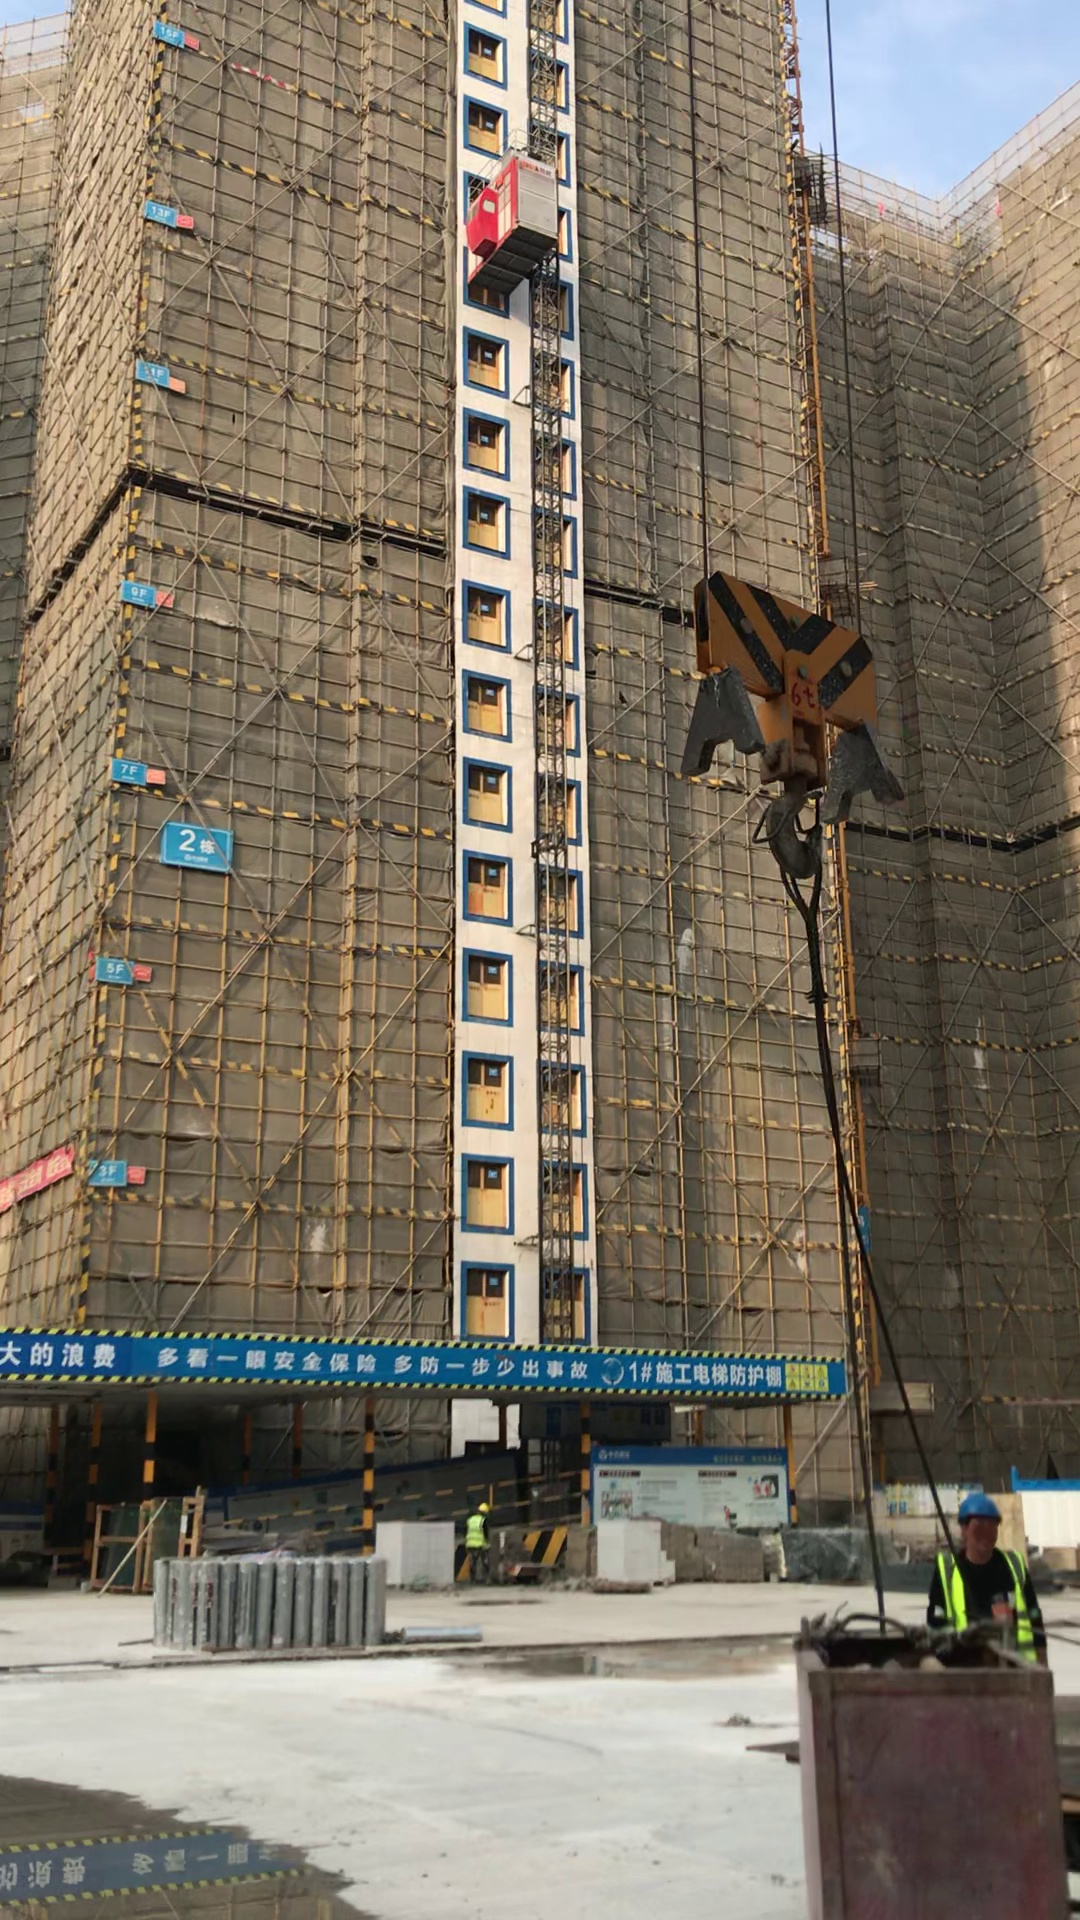brick: (373, 1519, 455, 1587), (597, 1518, 677, 1582)
helmet: (960, 1493, 1001, 1523), (477, 1502, 488, 1515)
hook: (686, 567, 905, 887)
person: (927, 1490, 1053, 1637), (465, 1502, 492, 1589)
slogan: (1, 1326, 845, 1394), (3, 1839, 286, 1893)
vest: (937, 1545, 1039, 1642), (466, 1515, 488, 1547)
